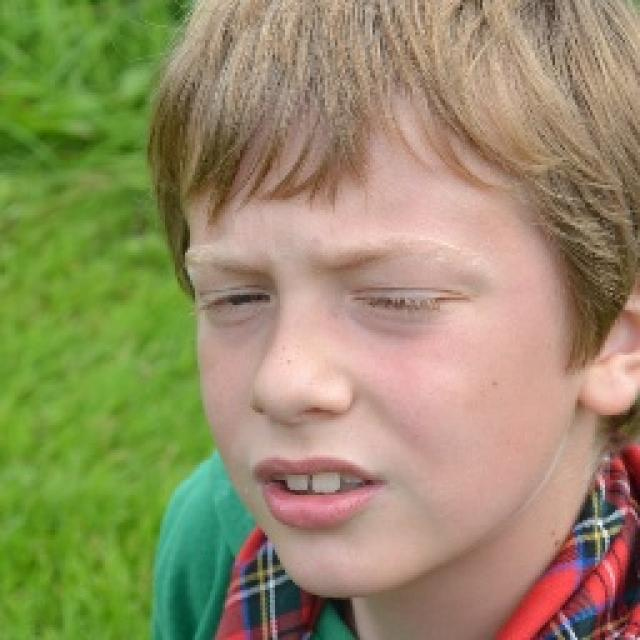earlobe: (577, 267, 640, 417)
